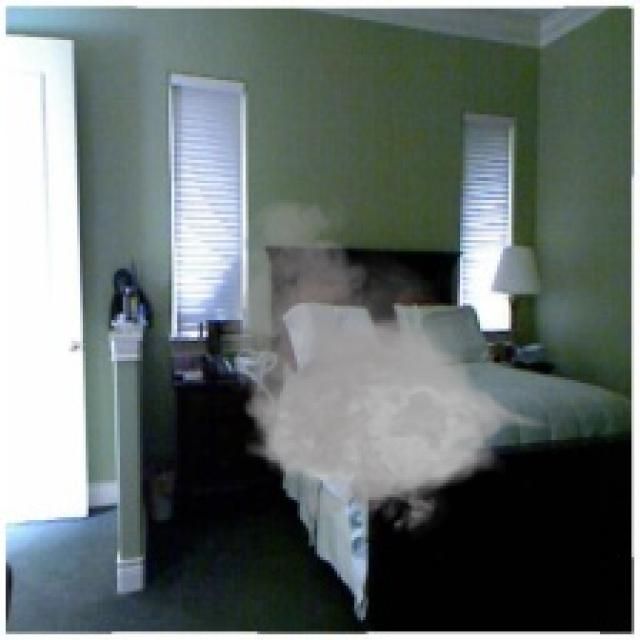smoke: (209, 194, 554, 543)
